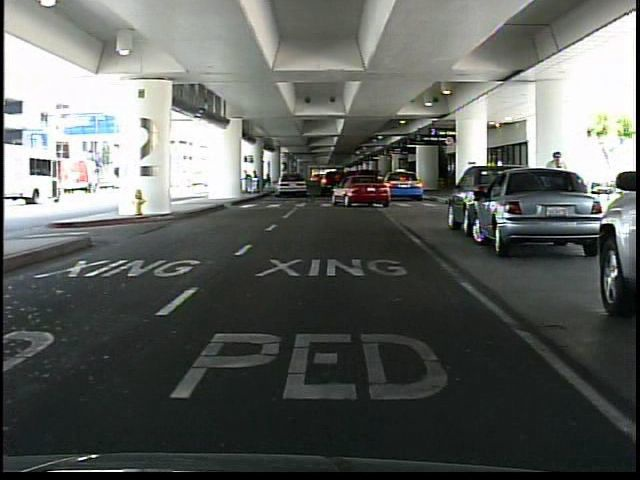person: (543, 148, 571, 231)
